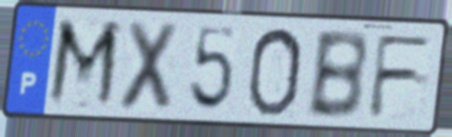5: (185, 24, 239, 115)
B: (304, 28, 371, 122)
F: (366, 32, 436, 121)
M: (44, 15, 125, 113)
O: (244, 25, 306, 119)
X: (114, 17, 183, 116)
